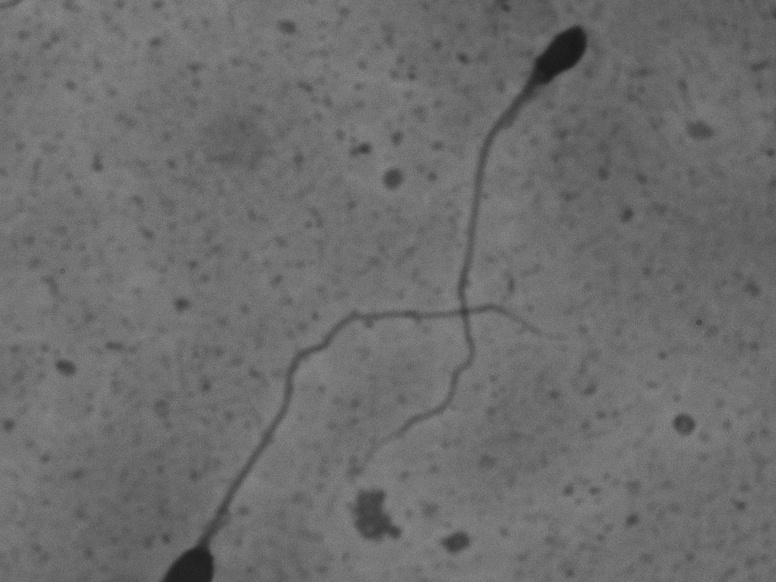Abnormal: (336, 19, 608, 497)
